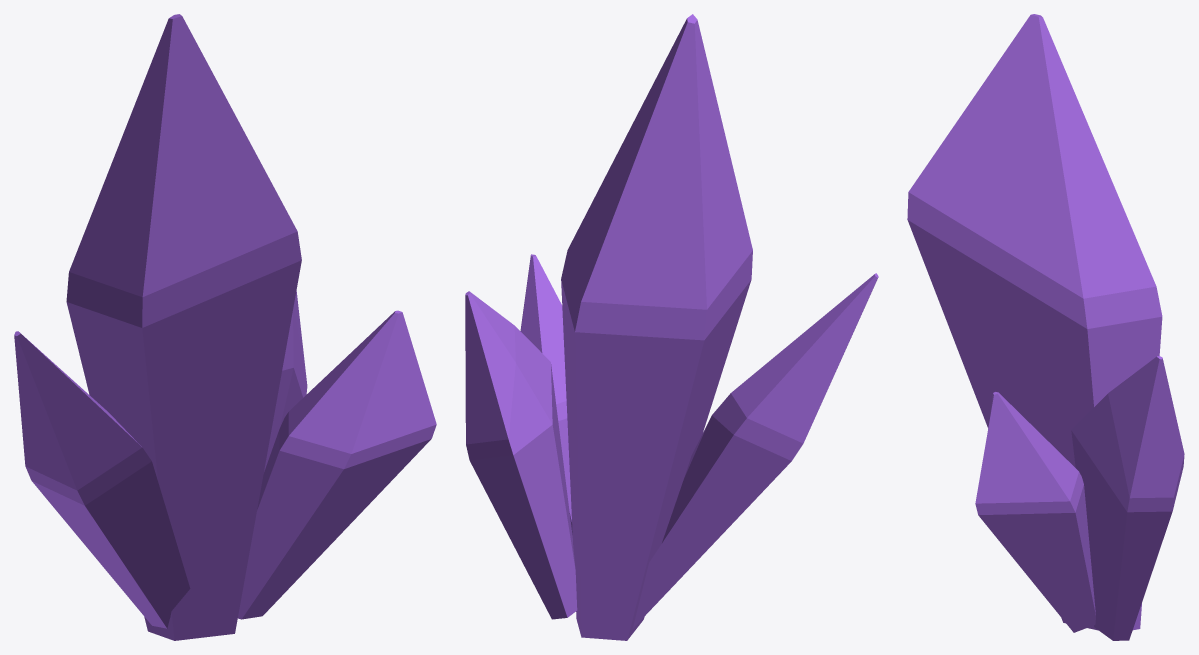
File: Crystal 2.fbx
3 renders of one model, left to right at view 1: azimuth 30°, elevation 25°; view 2: azimuth 150°, elevation 25°; view 3: azimuth 270°, elevation 25°, orthographic. The views are drawn at different scales.
Visible parts, largest first — view 1: Crystal 2; view 2: Crystal 2; view 3: Crystal 2.
Boxes of the visible parts, x1,y1,x2,y2 form: Crystal 2: (14, 14, 436, 640); Crystal 2: (465, 14, 878, 640); Crystal 2: (907, 14, 1184, 640).
Size of the model in its own units: 207 by 319 by 136.
